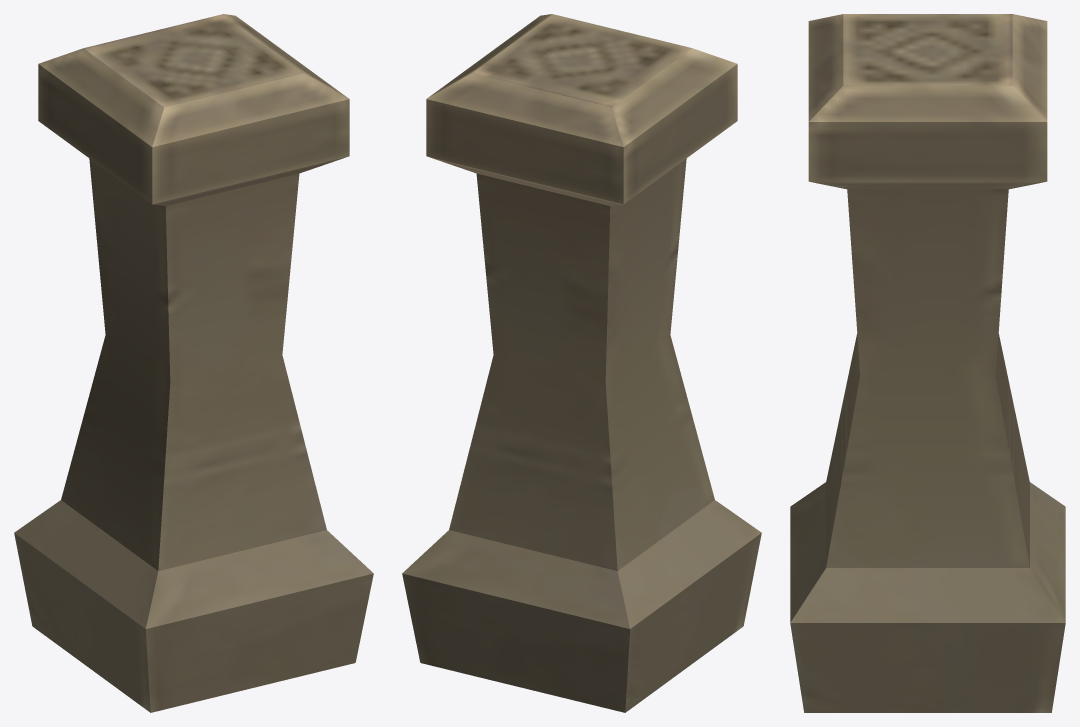
File: fence_6.FBX
The picture shows the model from 3 angles, left to right: view 1: azimuth 30°, elevation 25°; view 2: azimuth 150°, elevation 25°; view 3: azimuth 270°, elevation 25°; orthographic projection. The views are drawn at different scales.
Parts seen in each view (by area): view 1: fence_5; view 2: fence_5; view 3: fence_5.
Boxes of the visible parts, box(x1,y1,x2,y2) form: fence_5: box(14, 14, 373, 712); fence_5: box(402, 14, 761, 712); fence_5: box(790, 14, 1065, 712).
Size of the model in its own units: 8.52 by 20.84 by 8.52.
